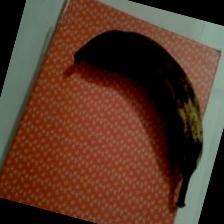Banana Rotten: (59, 12, 224, 131)
